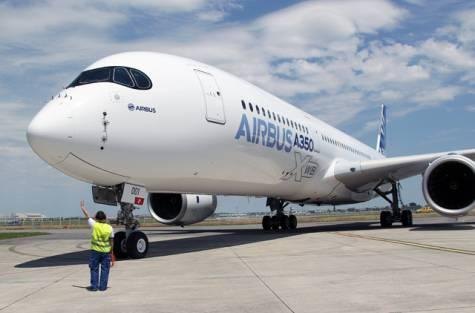airplane: (23, 50, 475, 259), (79, 201, 119, 294)
